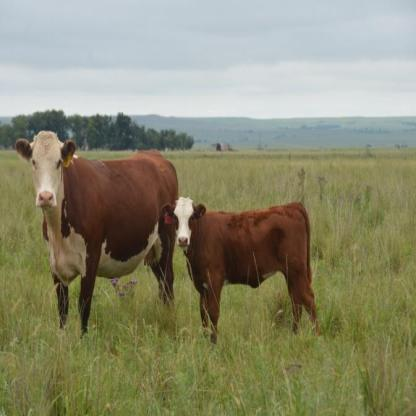cow: (14, 132, 179, 334), (164, 199, 319, 343)
